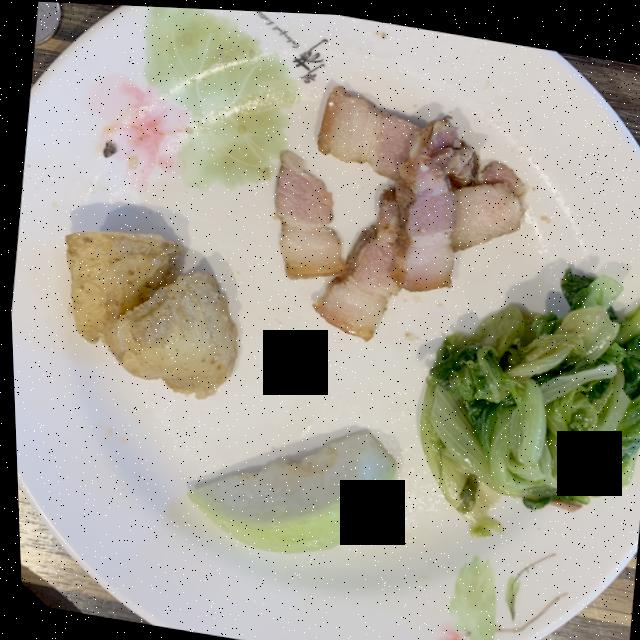coin: (33, 1, 59, 44)
fried potato: (62, 229, 234, 397)
grilled pork: (272, 83, 523, 337)
guava -sliced-: (183, 427, 391, 551)
mustard greens: (416, 267, 640, 533)
